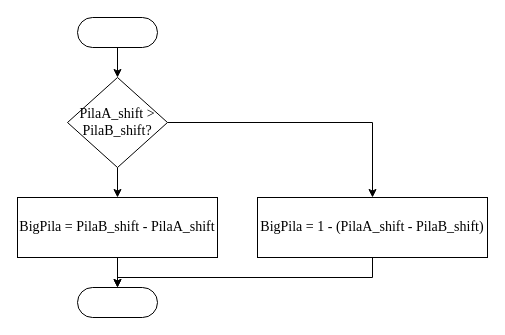
Some shapes in this 505 by 335 pixel diagram are drawn without their labels. The shapes that lost their labels are listed below. From the top down, each one's box as (x1, y1, x2, y2) in pixels, then its label:
(76, 16, 158, 48): Начало
(76, 286, 158, 318): Конец
